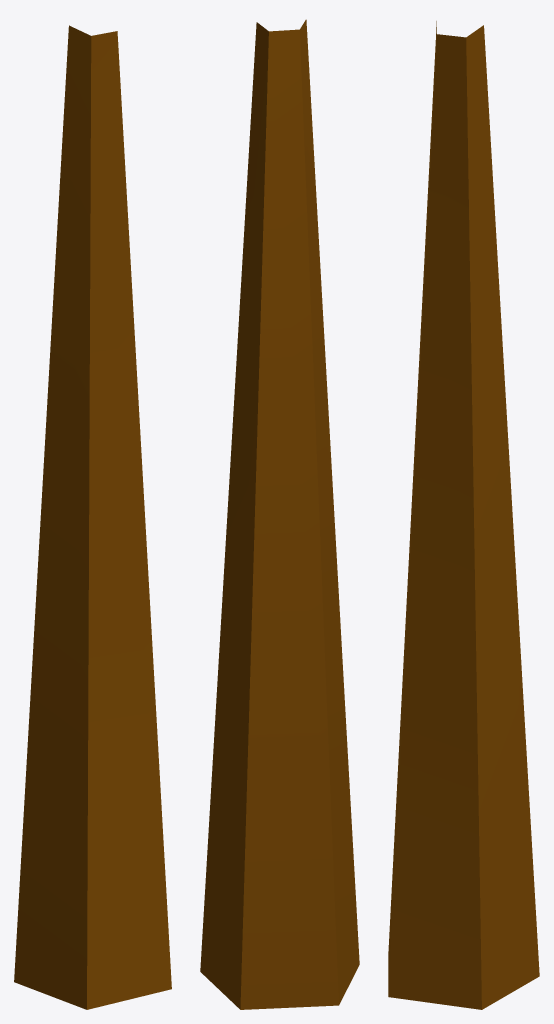
The model's file is TreeTrunk_01.glb.
3 views of the same model, side by side, from view 1: azimuth 30°, elevation 25°; view 2: azimuth 150°, elevation 25°; view 3: azimuth 270°, elevation 25° (orthographic).
Parts seen in each view (by area): view 1: TreeTrunk_01; view 2: TreeTrunk_01; view 3: TreeTrunk_01.
Part boxes in pixels (box(x1,y1,x2,y2)): TreeTrunk_01: box(14, 25, 171, 1009); TreeTrunk_01: box(200, 19, 359, 1009); TreeTrunk_01: box(388, 21, 539, 1009).
Bounding box in the file's own units: 38 × 251 × 36.2.
